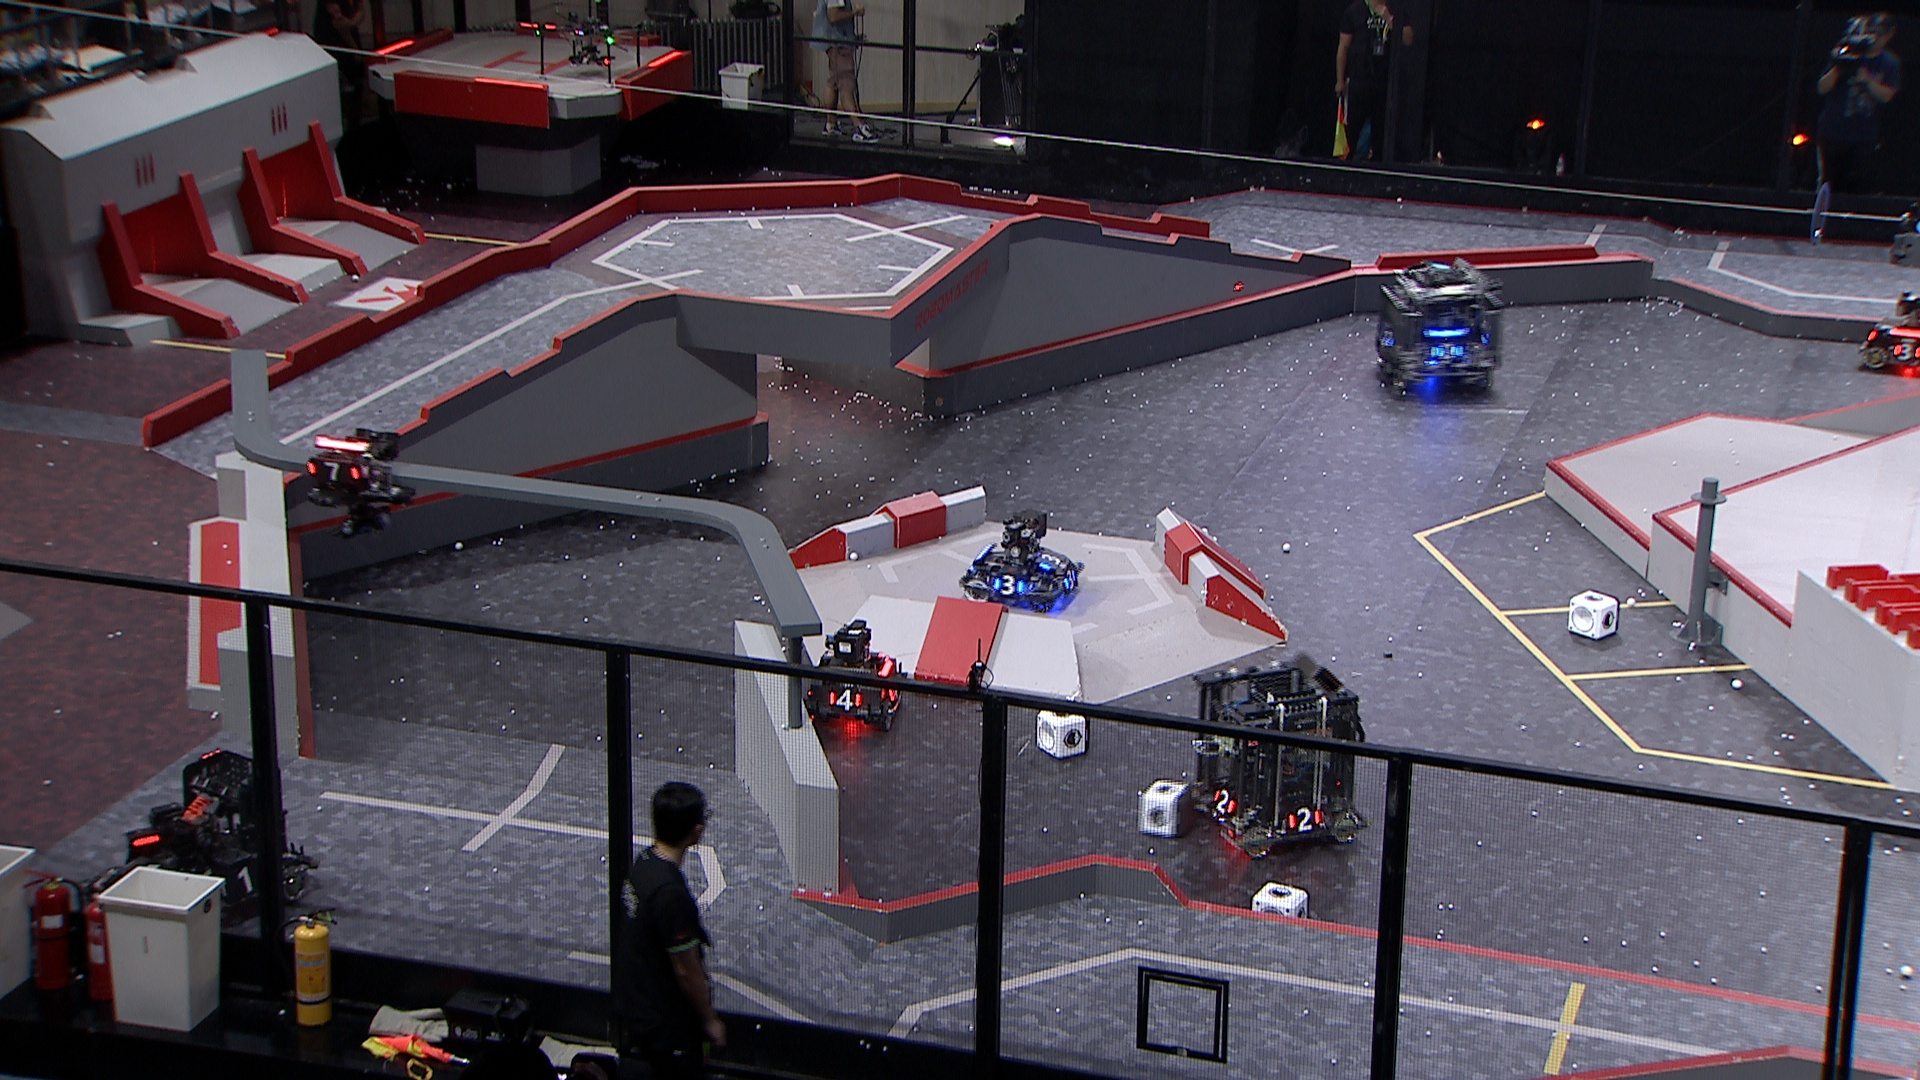armor: (216, 865, 261, 899), (305, 462, 363, 484), (1287, 806, 1323, 832), (828, 687, 864, 713), (1211, 787, 1237, 818), (994, 574, 1026, 597), (1433, 342, 1462, 361), (1040, 549, 1063, 574), (1894, 342, 1920, 363), (1375, 328, 1396, 351), (1062, 567, 1077, 591)
car: (84, 742, 320, 940), (1188, 651, 1370, 858), (1373, 261, 1506, 394), (959, 508, 1084, 616), (806, 621, 903, 731), (1855, 291, 1920, 373)
watcher: (305, 429, 417, 541)
